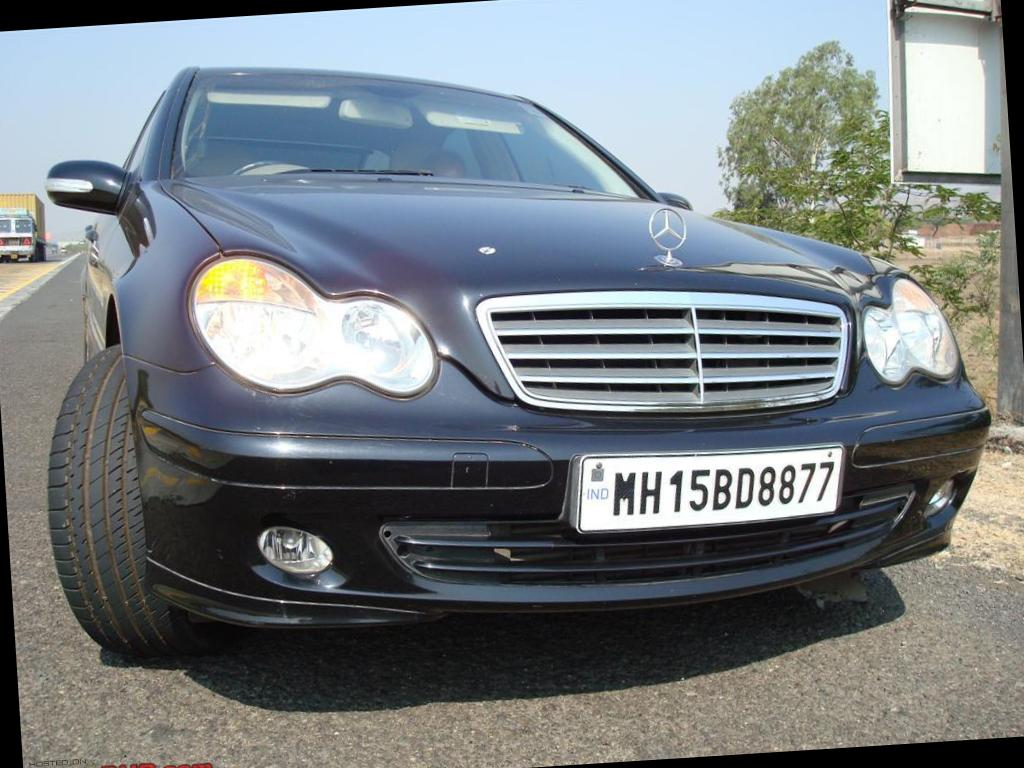plate: (563, 435, 857, 537)
